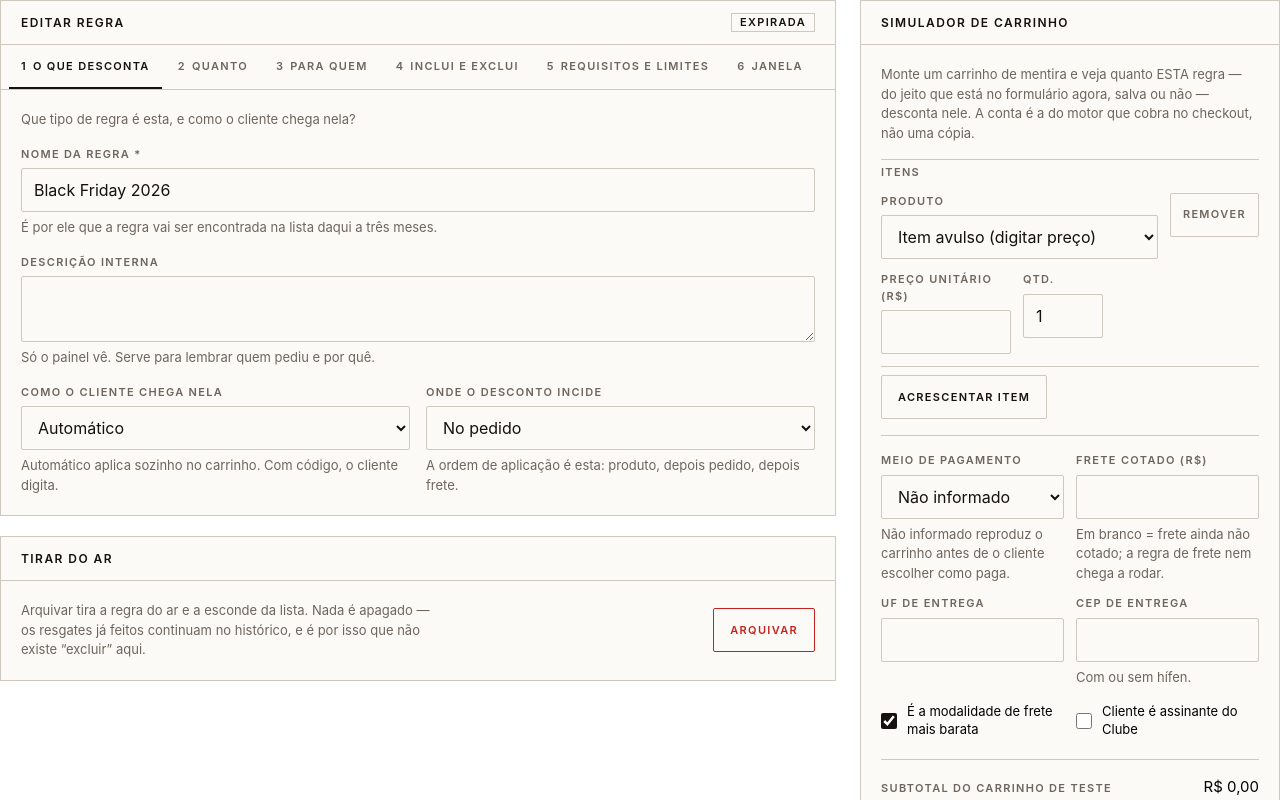
Test: editar uma regra fora da janela — o defeito que tornava a promoção inalcançável › o toggle “Ligada” NÃO é desabilitado pela janela — e continua marcado
Click the tab "6 Janela".
click(770, 67)  # box x1=725 y1=45 x2=815 y2=89
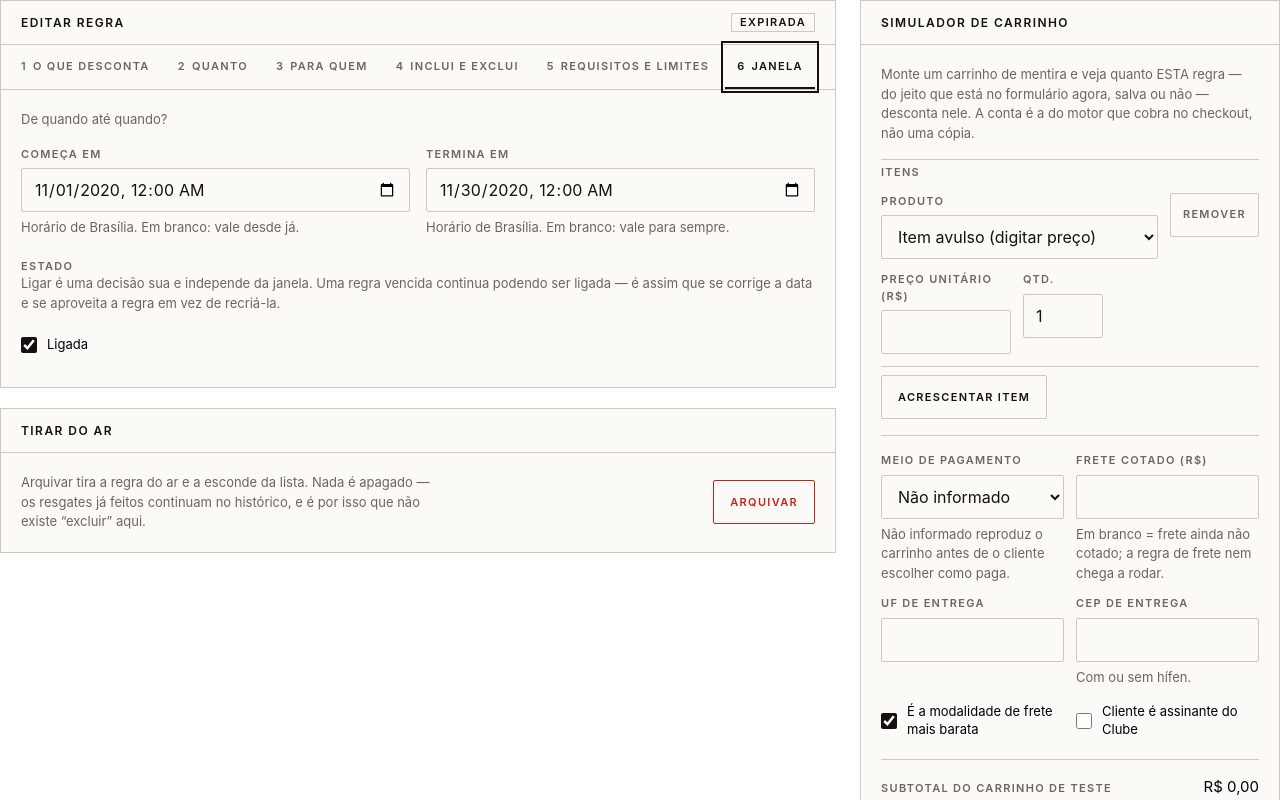
Expected: the checkbox labelled "Ligada" is enabled, x1=21 y1=337 x2=37 y2=353
Expected: the checkbox labelled "Ligada" is checked, x1=21 y1=337 x2=37 y2=353
